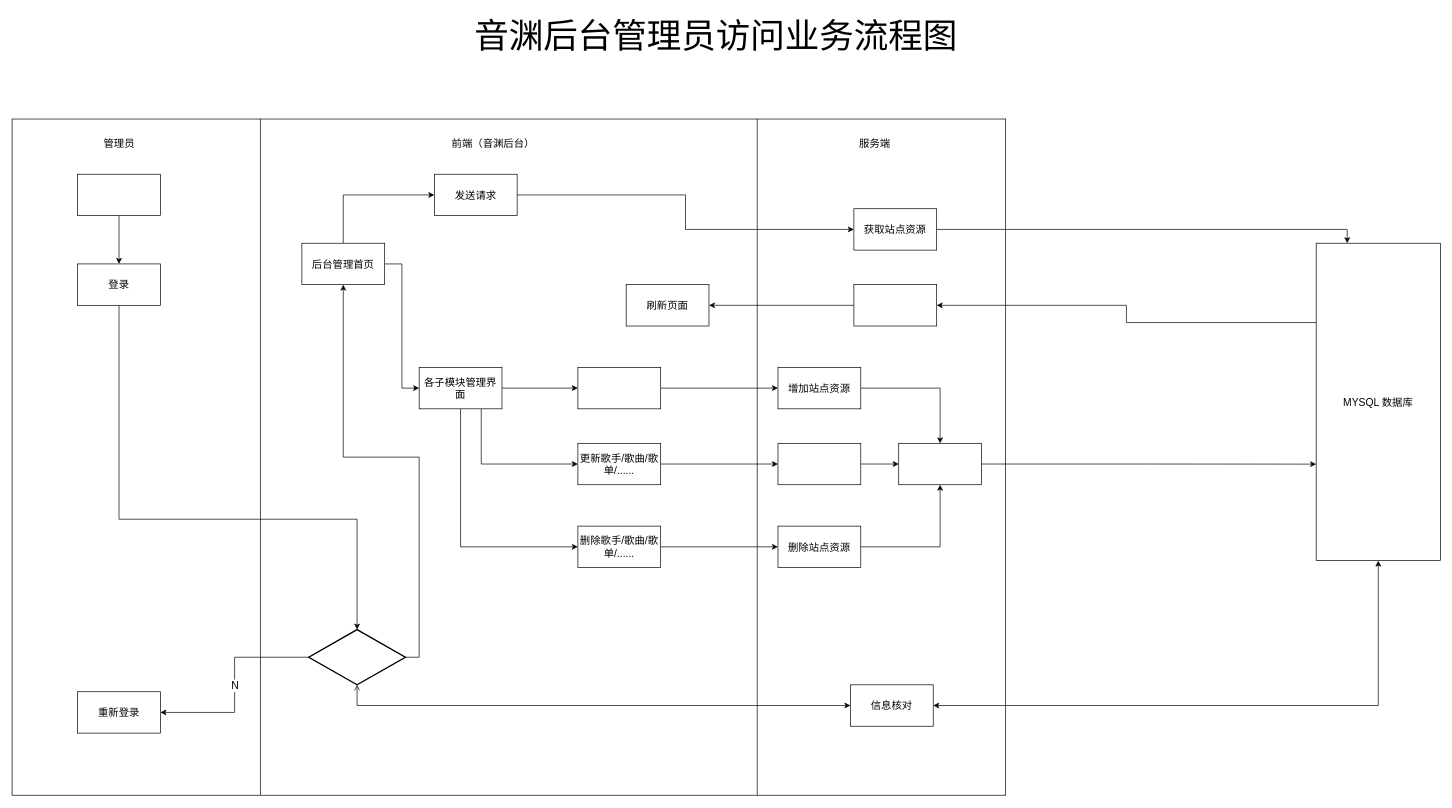
Some shapes in this 1452 by 808 pixel diagram are drawn without their labels. Each missing label, with the centre of its shape:
"信息写入" belongs at pixel 940 464.
"是否登录成功" belongs at pixel 357 657.
"更新站点资源" belongs at pixel 819 464.
"添加歌手/歌曲/歌单/......" belongs at pixel 619 388.
"管理员用户" belongs at pixel 118 195.
"返回站点资源" belongs at pixel 895 305.
